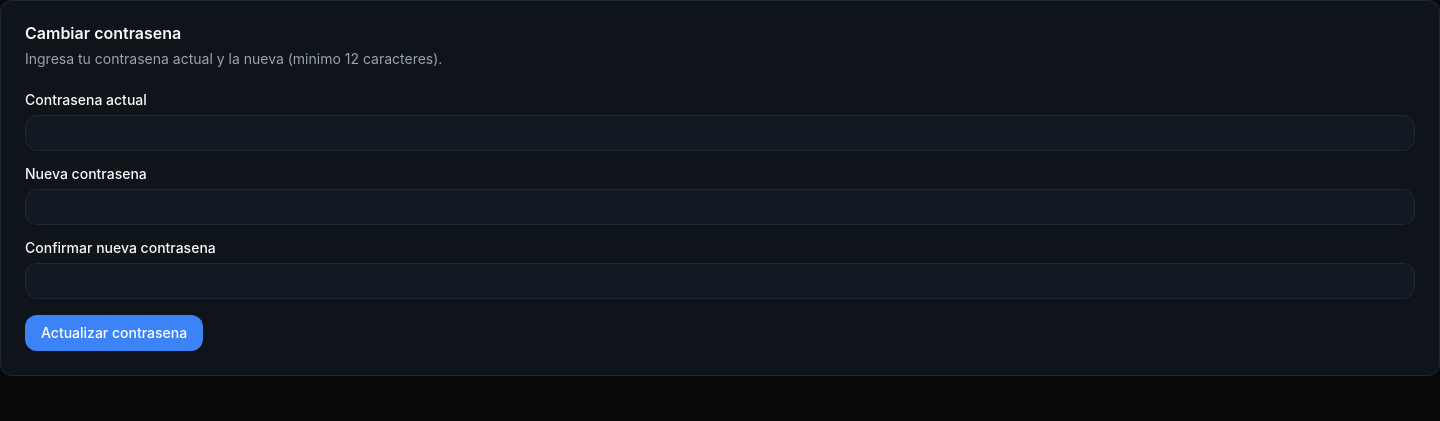
Test: ChangePasswordForm › Given new_password corta When submit Then Zod bloquea (min 12)
Type "old-pass-123" into the password field labelled "Contrasena actual" at (720,133), box [25,115,1415,151]
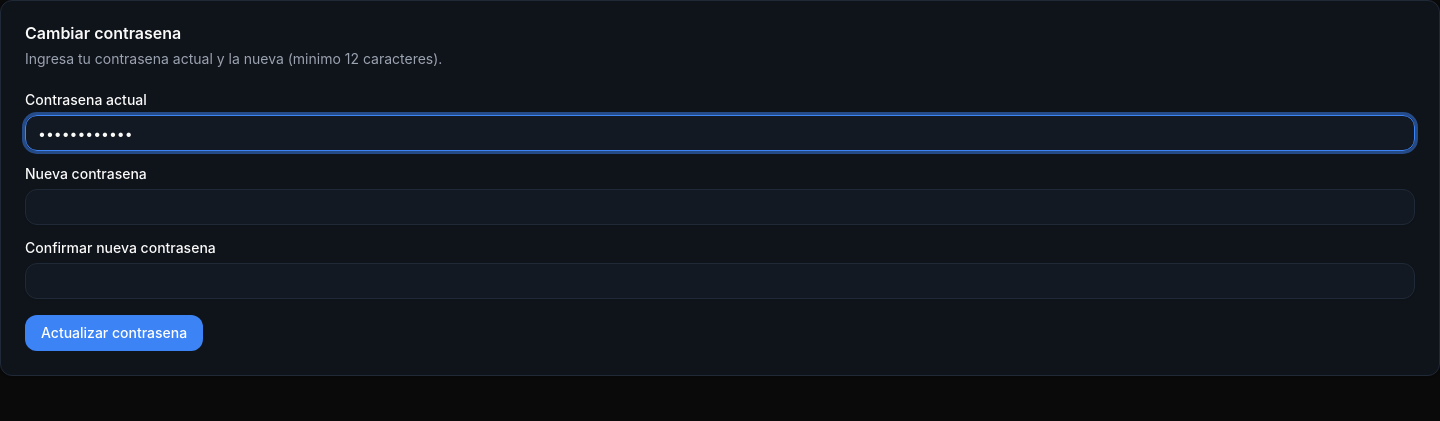
Type "corta" into the password field labelled "Nueva contrasena" at (720,207), box [25,189,1415,225]
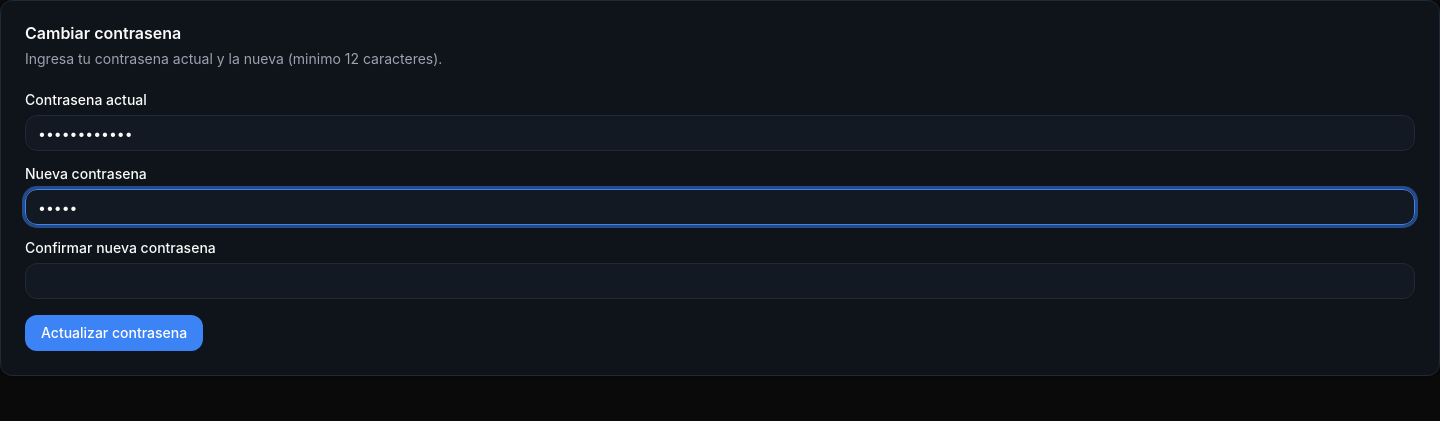
Type "corta" into the password field labelled "Confirmar nueva contrasena" at (720,281), box [25,263,1415,299]
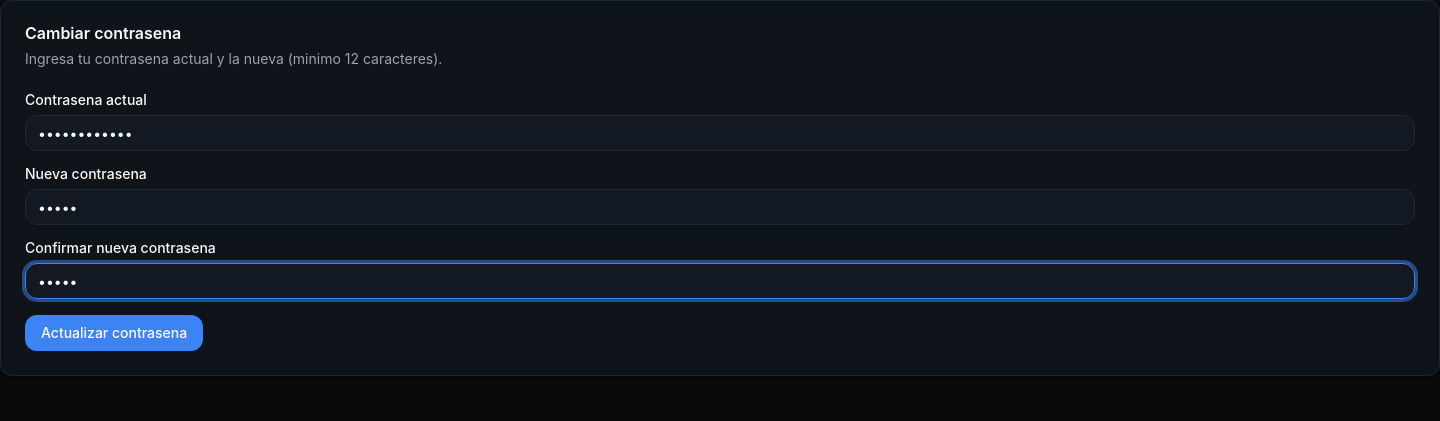
Click the button "Actualizar contrasena" at (114,333), box [25,315,203,351]
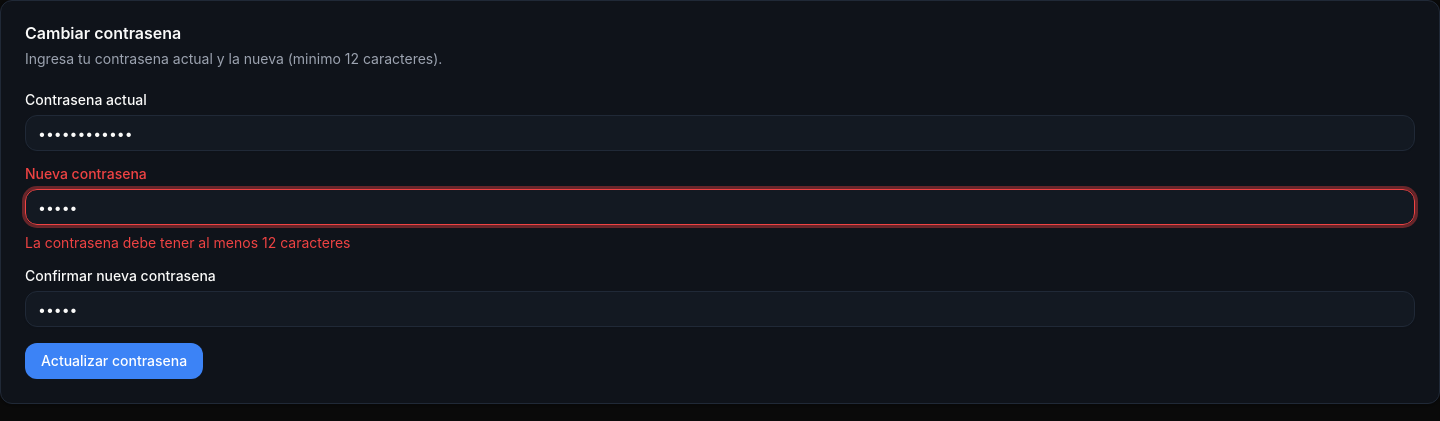
Check: the text "La contrasena debe tener al menos 12 caracteres" is shown, box [25,234,350,251]
